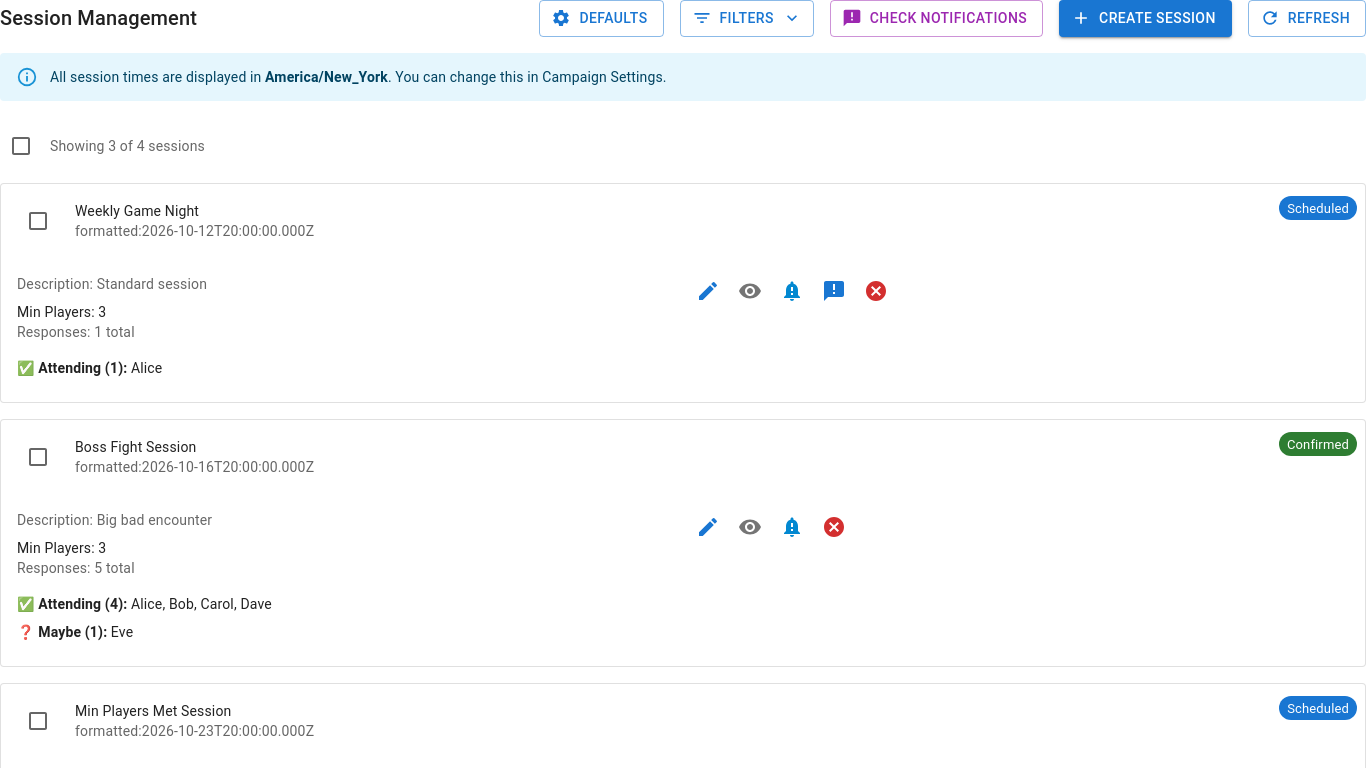
Test case: SessionManagement › View Attendance › fetches detailed attendance and renders attendees in the dialog
Check: the text "Weekly Game Night" is shown, box [75, 202, 199, 218]
// Click View Attendance on the first session card
Click the button named "view attendance details" in the row of "Standard session": (750, 290) [733, 274, 767, 308]
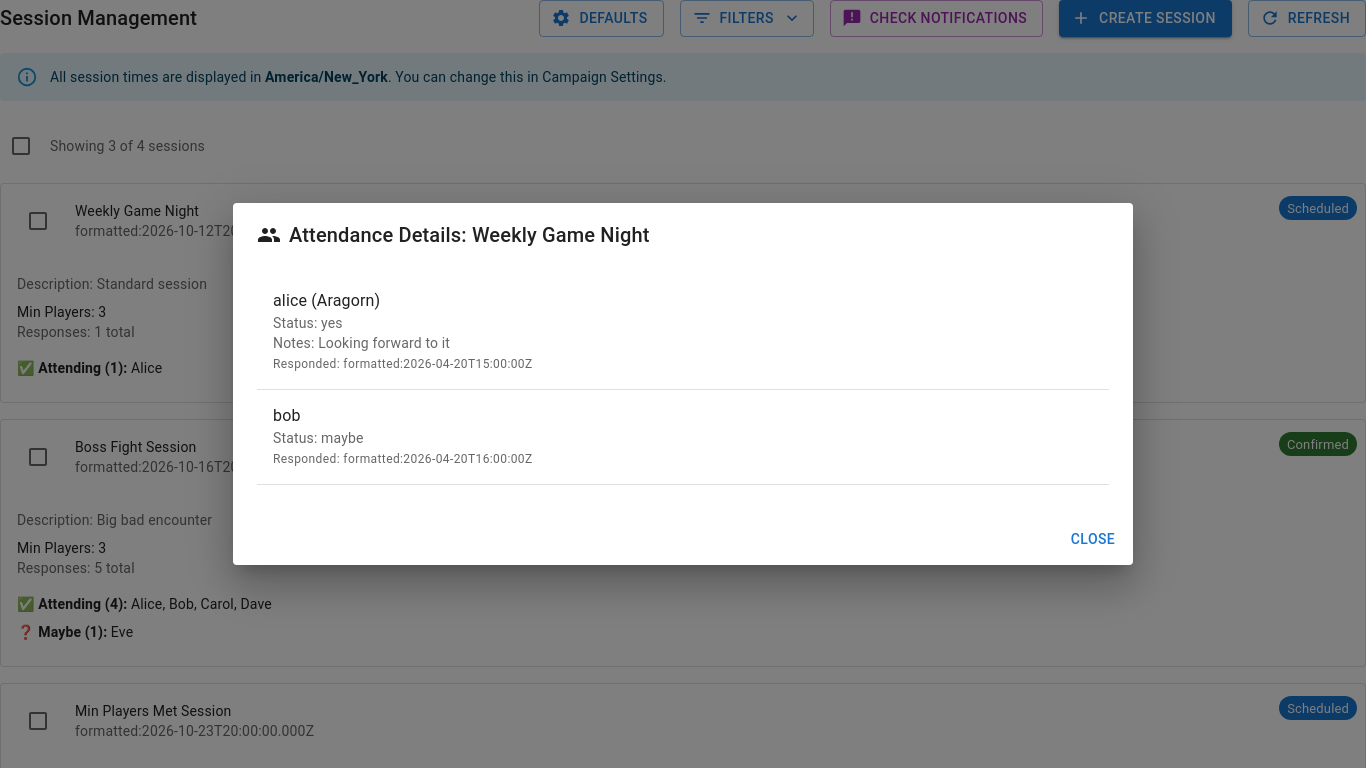
Check: the text "Attendance Details: Weekly Game Night" is shown, box [257, 223, 650, 247]
Check: the text "alice (Aragorn)" is shown, box [273, 291, 380, 310]
Check: the text "Notes: Looking forward to it" is shown, box [273, 335, 450, 351]
